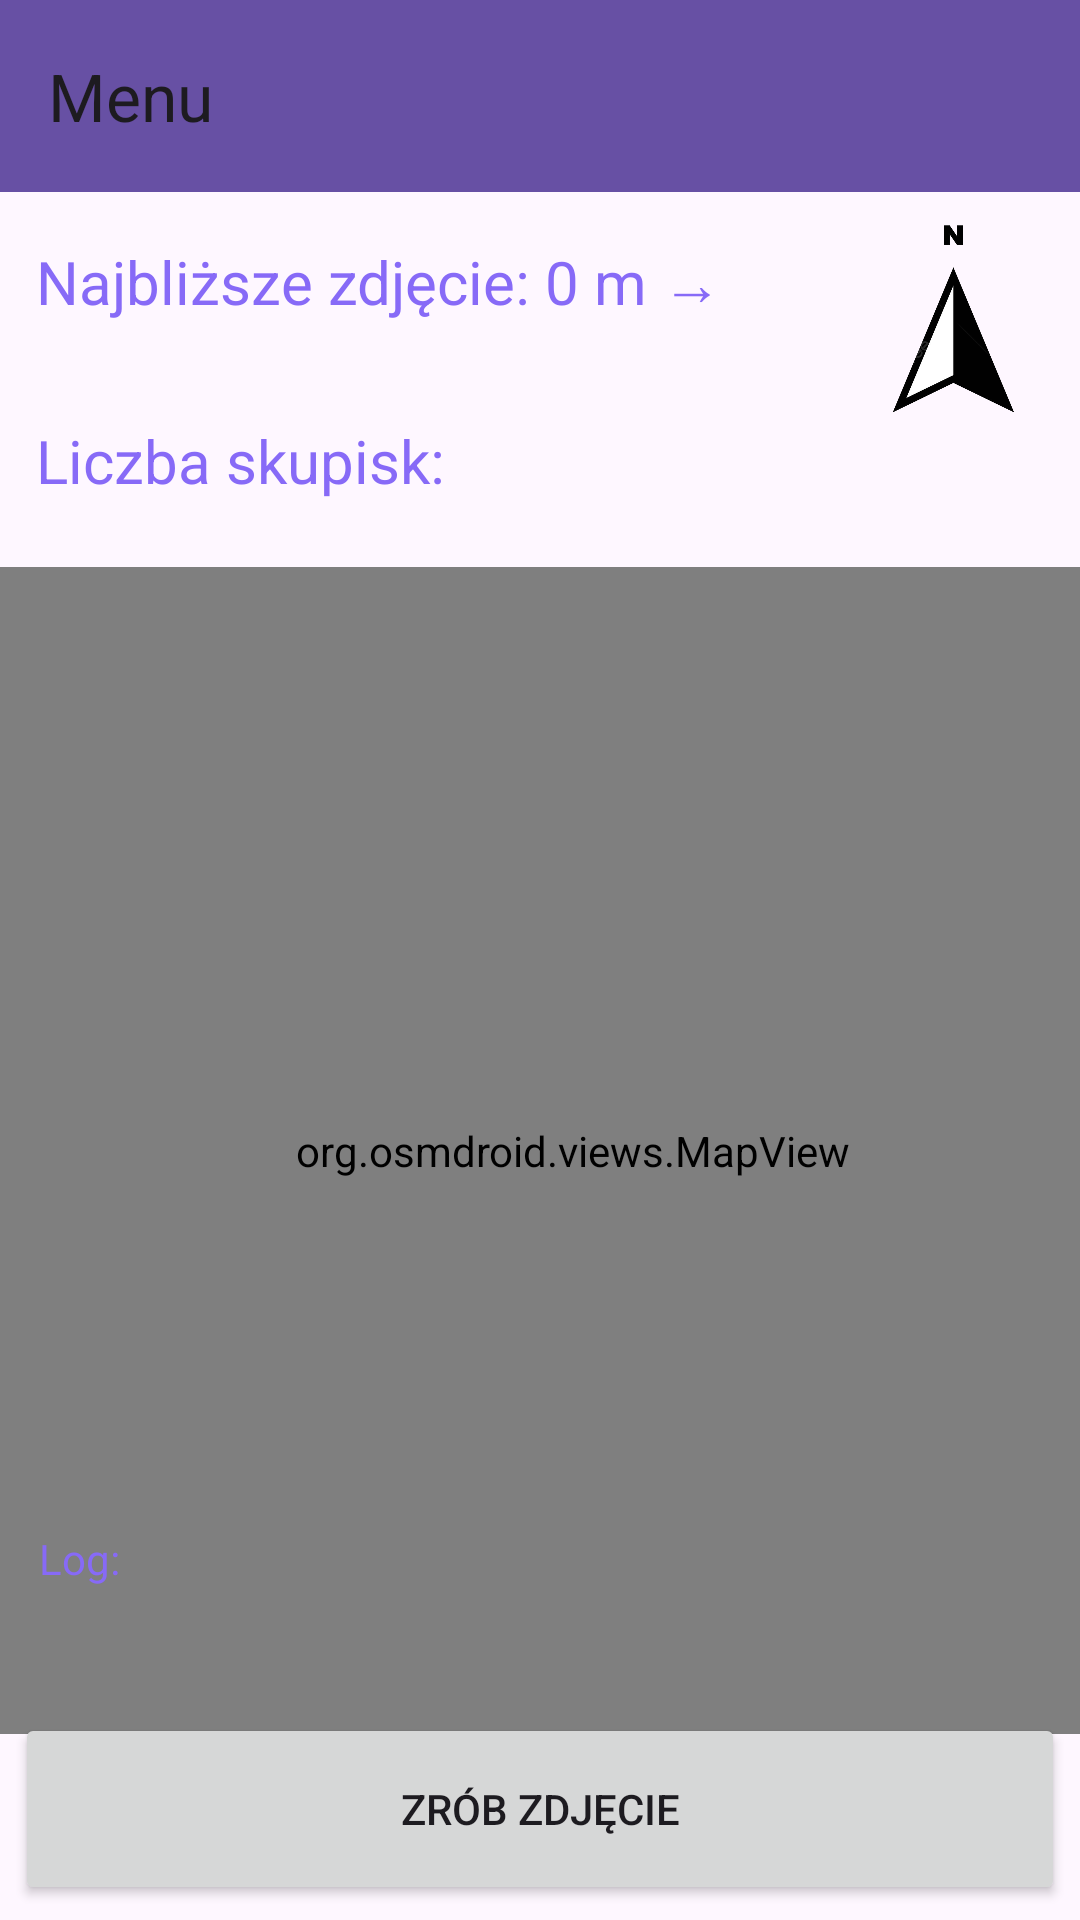

Icon click points for this 1080w x 1920h phone screenshot, format (x,y):
compass: (953,318)
